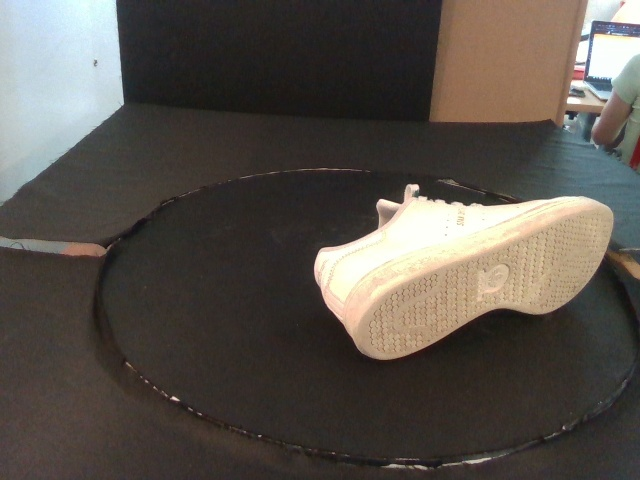shoe: (313, 198, 615, 361)
